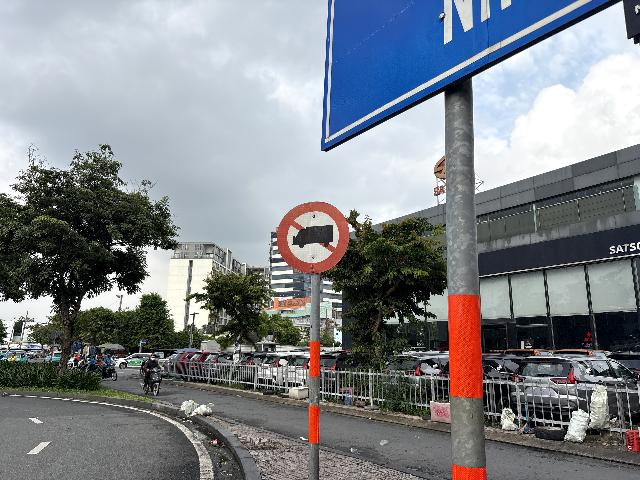cam-xe-tai: (278, 202, 348, 274)
